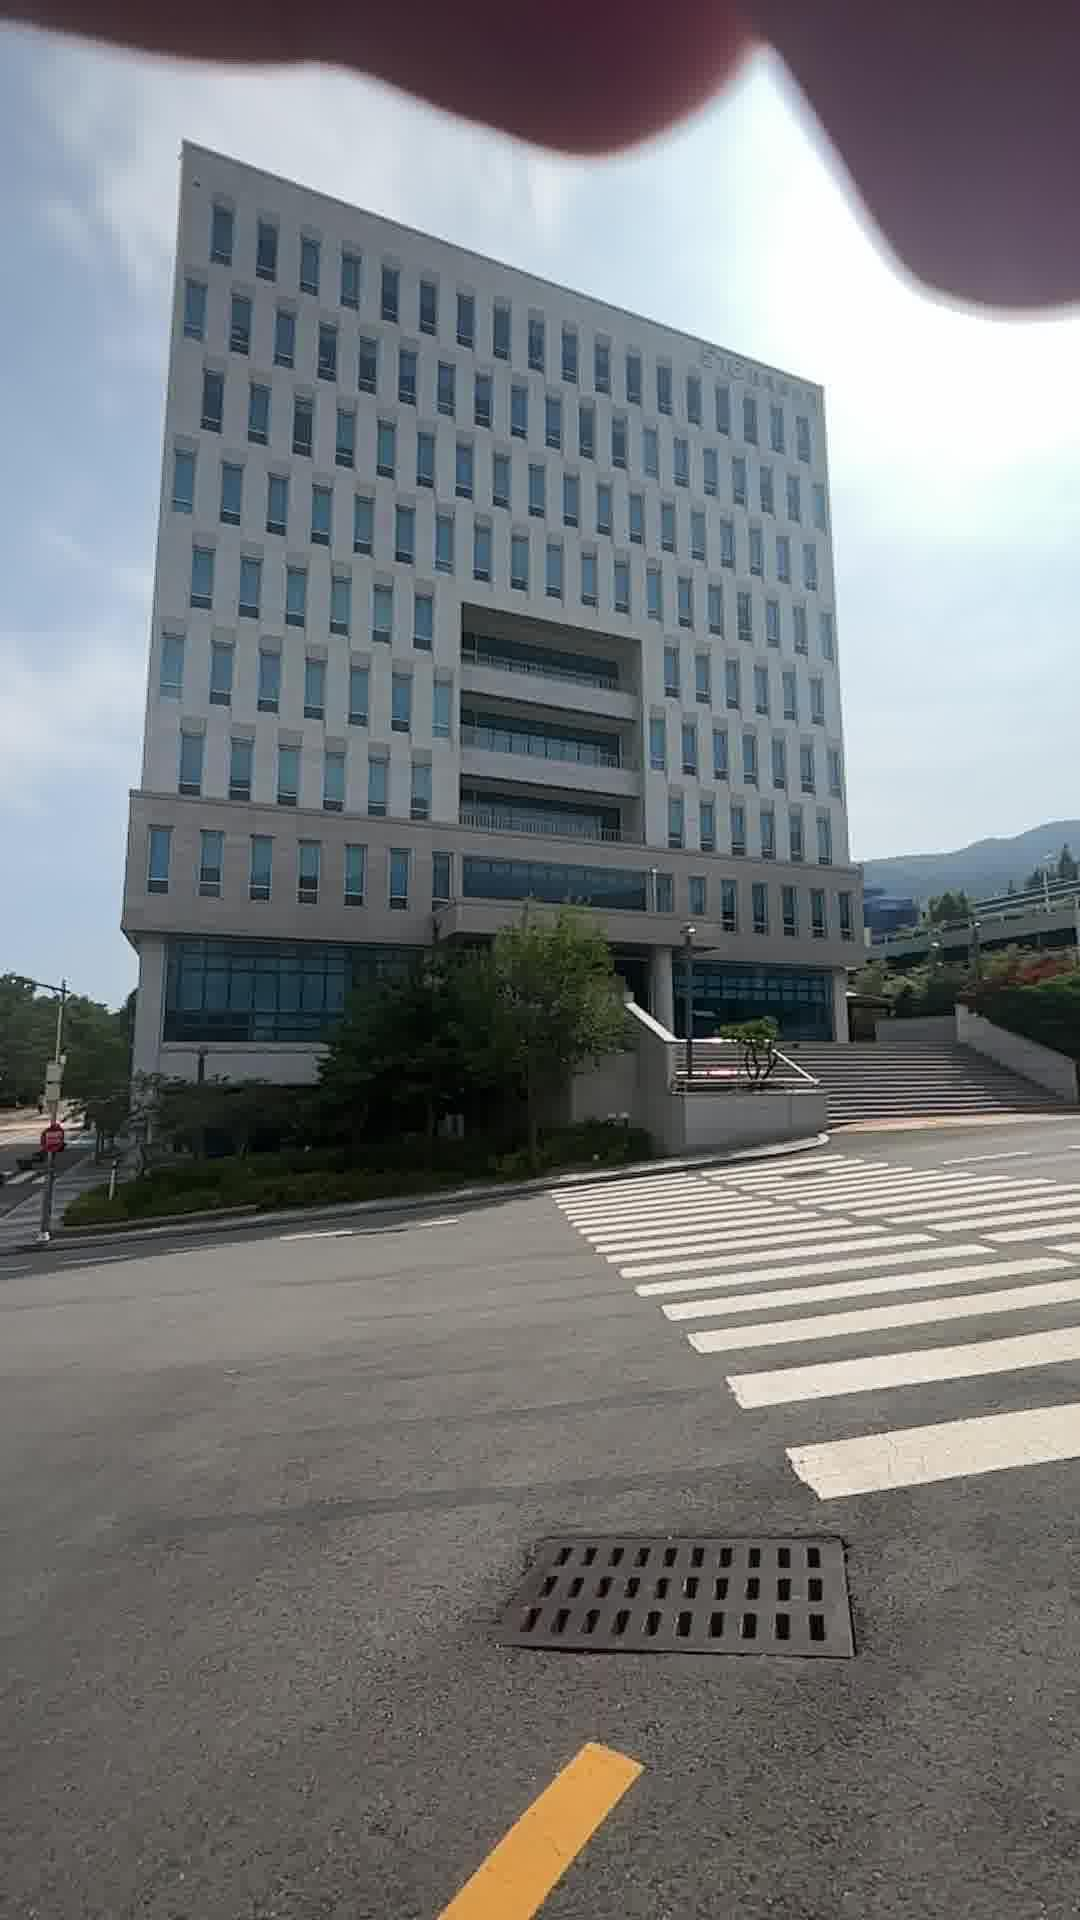building: (100, 157, 882, 1025)
